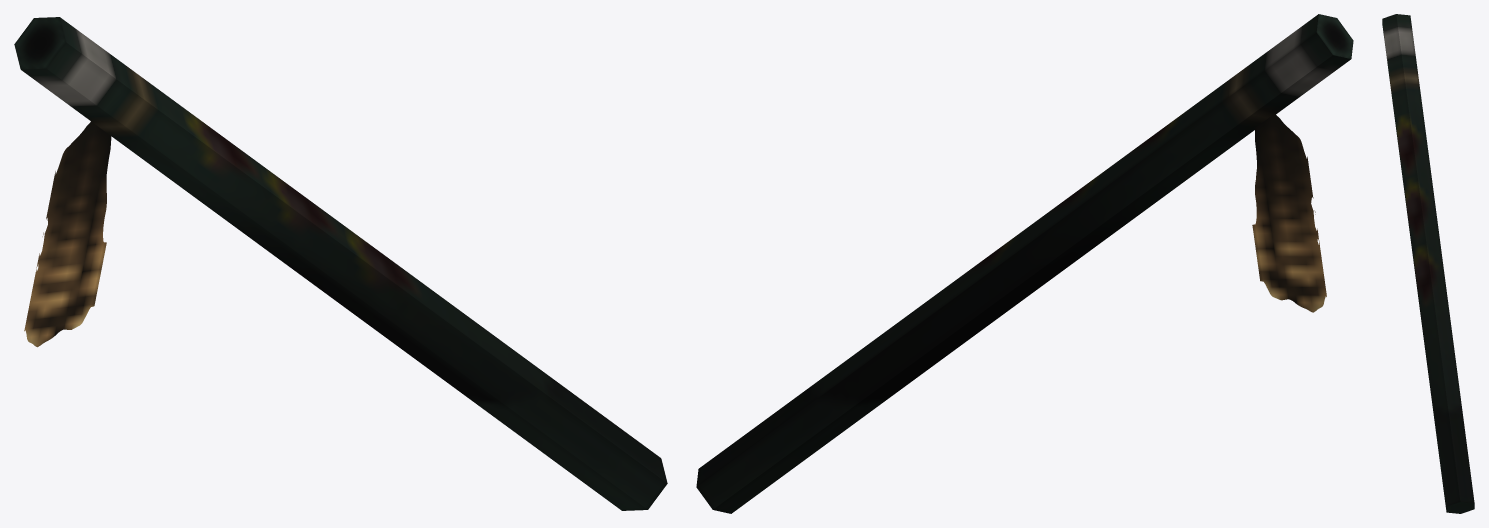
The model's file is blow pipe 2.fbx.
3 renders of one model, left to right at view 1: azimuth 30°, elevation 25°; view 2: azimuth 150°, elevation 25°; view 3: azimuth 270°, elevation 25°, orthographic. The views are drawn at different scales.
Parts seen in each view (by area): view 1: Blowpipe2; view 2: Blowpipe2; view 3: Blowpipe2.
Part boxes in pixels (left/top/right/bottom): Blowpipe2: left=14, top=17, right=667, bottom=510; Blowpipe2: left=696, top=14, right=1353, bottom=513; Blowpipe2: left=1382, top=14, right=1474, bottom=513.
Bounding box in the file's own units: 0.4809 × 0.4527 × 0.1094.
